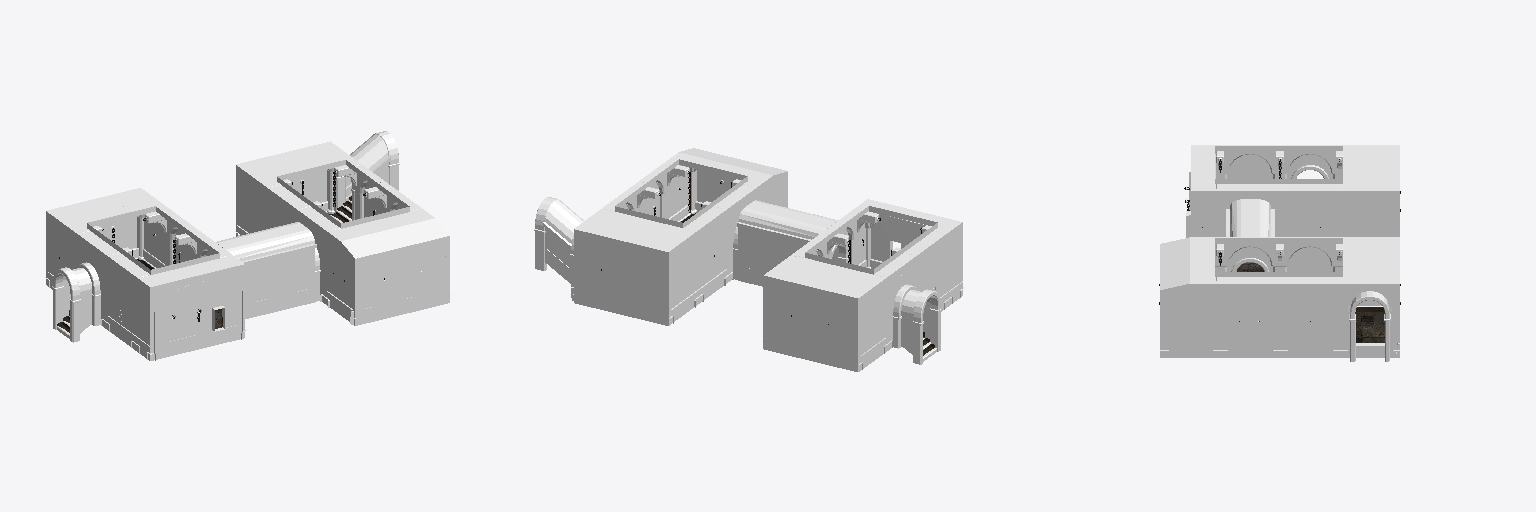
The picture shows the model from 3 angles: view 1: azimuth 30°, elevation 25°; view 2: azimuth 150°, elevation 25°; view 3: azimuth 270°, elevation 25°; orthographic projection.
Visible parts, largest first — view 1: mesh9, mesh5, mesh4, mesh6; view 2: mesh9, mesh5, mesh4, mesh6; view 3: mesh9, mesh5, mesh8, mesh6, mesh4.
Part boxes in pixels (x1,y1,x2,y2): mesh9: (46, 134, 449, 360); mesh5: (53, 156, 398, 353); mesh4: (45, 163, 450, 360); mesh6: (52, 131, 399, 302); mesh9: (545, 148, 962, 371); mesh5: (535, 170, 940, 364); mesh4: (547, 163, 963, 369); mesh6: (534, 197, 941, 325); mesh9: (1160, 145, 1399, 357); mesh5: (1189, 172, 1391, 361); mesh8: (1238, 263, 1384, 342); mesh6: (1231, 165, 1390, 320); mesh4: (1160, 147, 1399, 353).
Bounding box in the file's own units: 20.7 × 5.2 × 12.2.
Materials: 10 (3 with a texture image).